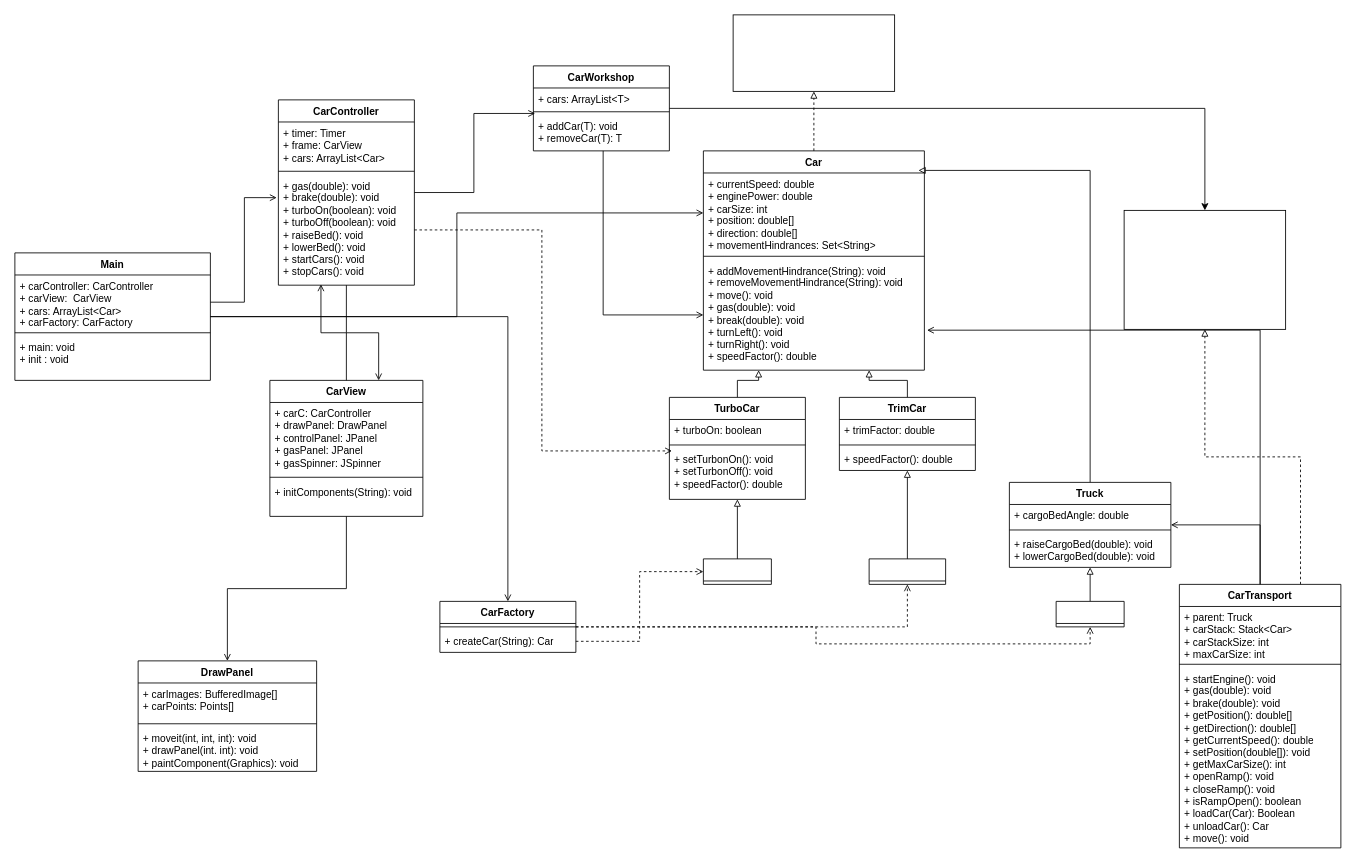
Image size: 1356x865. Some labels were removed from this diagram. Here are the shapes that lost their labels. From the top down, the centre of each, then its label:
the point at 813,52: <<Interface>> Movable + move(): void + turnLeft(): void + turnRight(): void
the point at 1204,269: <<Interface>> CarStorage + loadCar(Car): boolean + unloadCar(Car): Car
the point at 737,571: Saab95
the point at 907,571: Volvo240
the point at 1089,614: Scania
